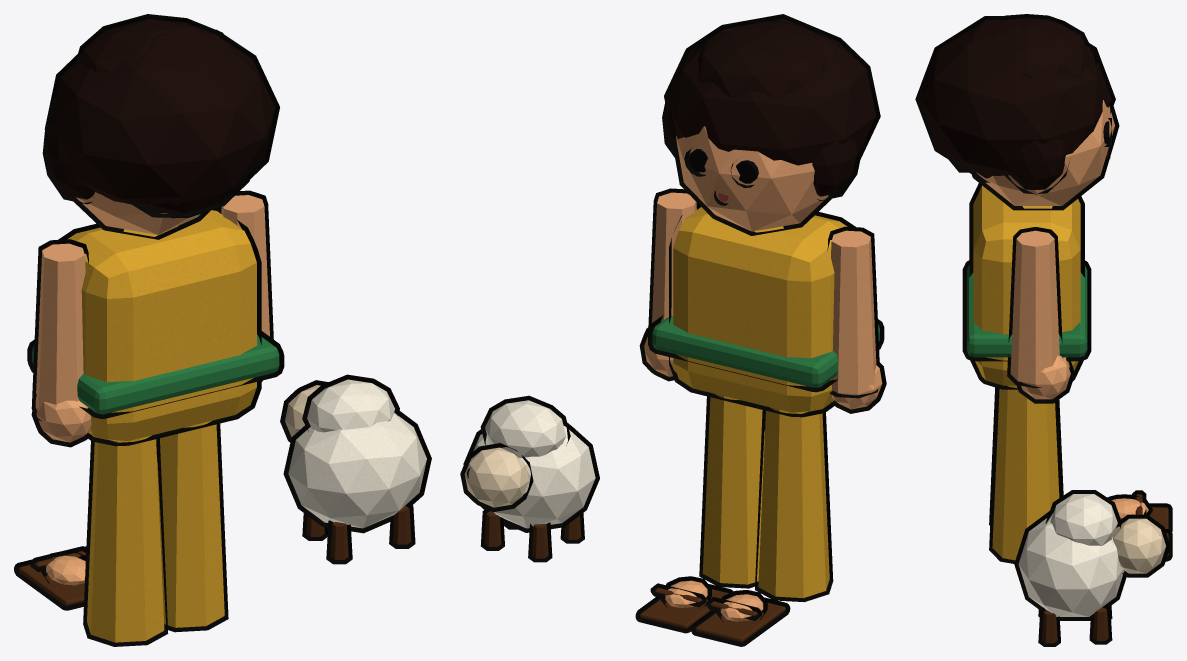
File: david_mentor_v8.glb
The picture shows the model from 3 angles, left to right: view 1: azimuth 30°, elevation 25°; view 2: azimuth 150°, elevation 25°; view 3: azimuth 270°, elevation 25°; orthographic projection. The views are drawn at different scales.
Parts seen in each view (by area): view 1: David_Mentor, David_Mentor_Outline; view 2: David_Mentor, David_Mentor_Outline; view 3: David_Mentor, David_Mentor_Outline.
Part boxes in pixels (box(x1,y1,x2,y2)): David_Mentor: box(18, 19, 426, 642); David_Mentor_Outline: box(14, 14, 431, 646); David_Mentor: box(464, 18, 882, 642); David_Mentor_Outline: box(460, 14, 886, 646); David_Mentor: box(919, 18, 1168, 643); David_Mentor_Outline: box(915, 14, 1172, 646).
Size of the model in its own units: 0.7724 by 1.06 by 0.4822.
10 materials, 10 textured.
